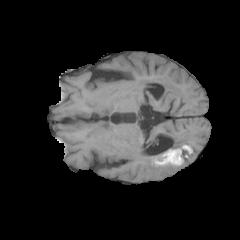glioma: (143, 75, 193, 169)
